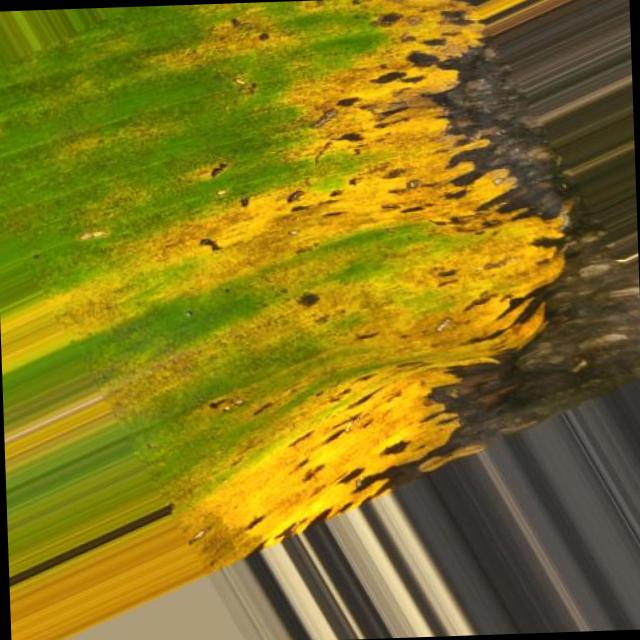Banana_Black_Sigatoka: (227, 0, 611, 491)
